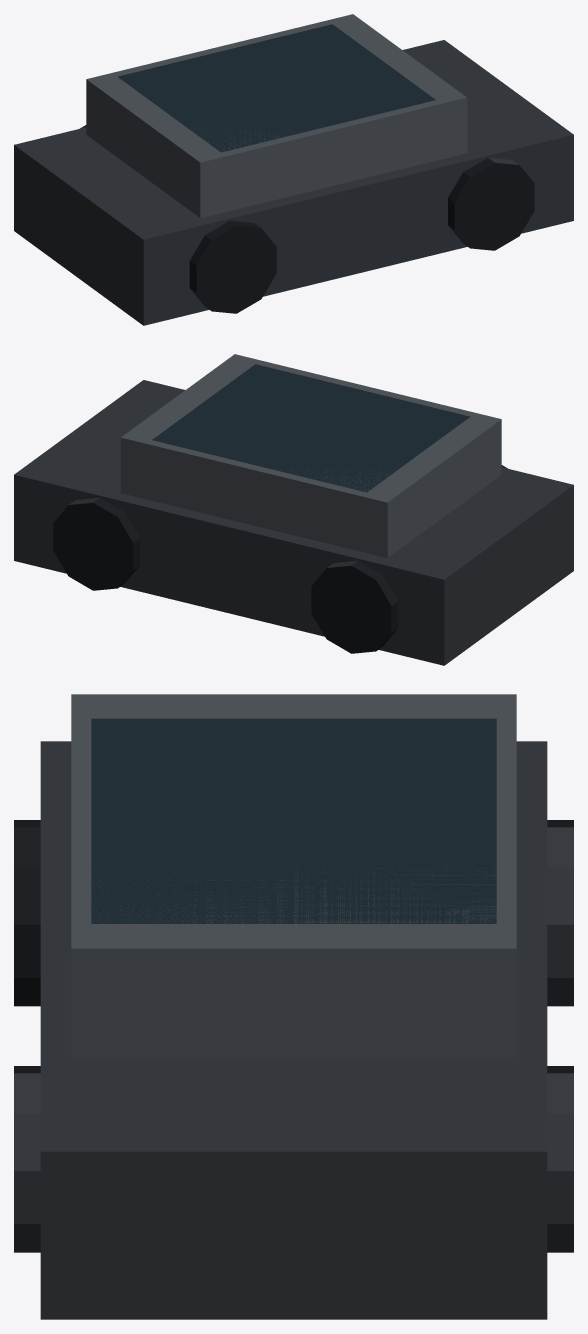
File: car.glb
The picture shows the model from 3 angles, top to bottom: view 1: azimuth 30°, elevation 25°; view 2: azimuth 150°, elevation 25°; view 3: azimuth 270°, elevation 25°; orthographic projection. The views are drawn at different scales.
Visible parts, largest first — view 1: car; view 2: car; view 3: car.
Boxes of the visible parts, x1,y1,x2,y2 form: car: (14,14,573,325); car: (14,354,573,665); car: (14,694,573,1319).
Bounding box in the file's own units: 4.6 × 1.49 × 2.65.
